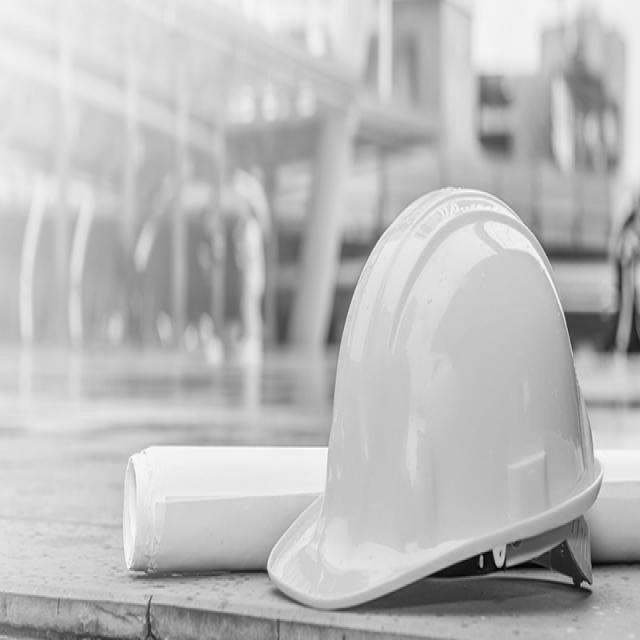construction helmet: (265, 189, 605, 613)
